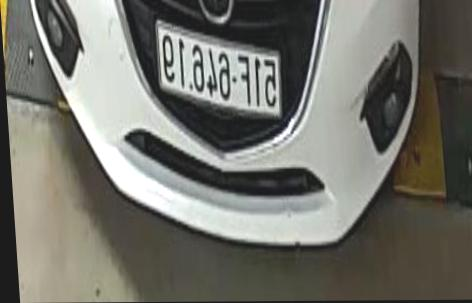License_Plate: (145, 17, 288, 125)
